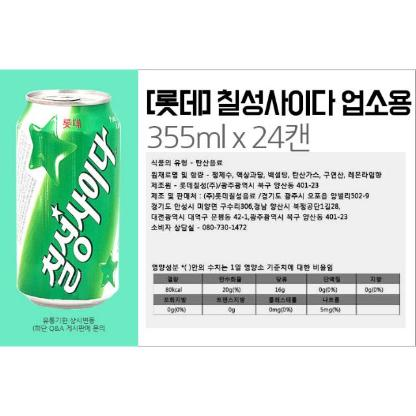Can: (15, 86, 123, 306)
